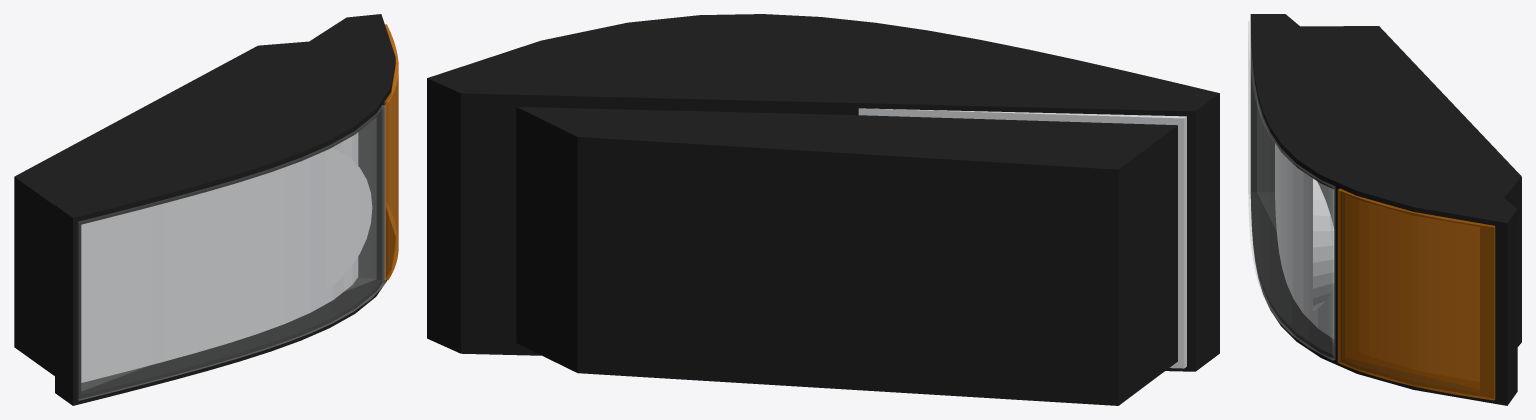
Rendered from farol.glb.
The picture shows the model from 3 angles, left to right: view 1: azimuth 30°, elevation 25°; view 2: azimuth 150°, elevation 25°; view 3: azimuth 270°, elevation 25°; orthographic projection. The views are drawn at different scales.
Visible parts, largest first — view 1: farol_plastico_preto, farol_lente_farol, farol_refletor, farol_lente_pisca; view 2: farol_plastico_preto, farol_refletor; view 3: farol_plastico_preto, farol_lente_pisca, farol_lente_farol, farol_refletor.
Part boxes in pixels (x1=…): farol_plastico_preto: x1=14, y1=14, x2=395, y2=405; farol_lente_farol: x1=78, y1=105, x2=385, y2=400; farol_refletor: x1=81, y1=132, x2=372, y2=382; farol_lente_pisca: x1=384, y1=24, x2=398, y2=280; farol_plastico_preto: x1=427, y1=14, x2=1219, y2=405; farol_refletor: x1=858, y1=108, x2=1186, y2=368; farol_plastico_preto: x1=1250, y1=14, x2=1521, y2=405; farol_lente_pisca: x1=1337, y1=188, x2=1495, y2=400; farol_lente_farol: x1=1248, y1=21, x2=1334, y2=360; farol_refletor: x1=1275, y1=143, x2=1334, y2=338.
Bounding box in the file's own units: 0.3704 × 0.151 × 0.2048.
